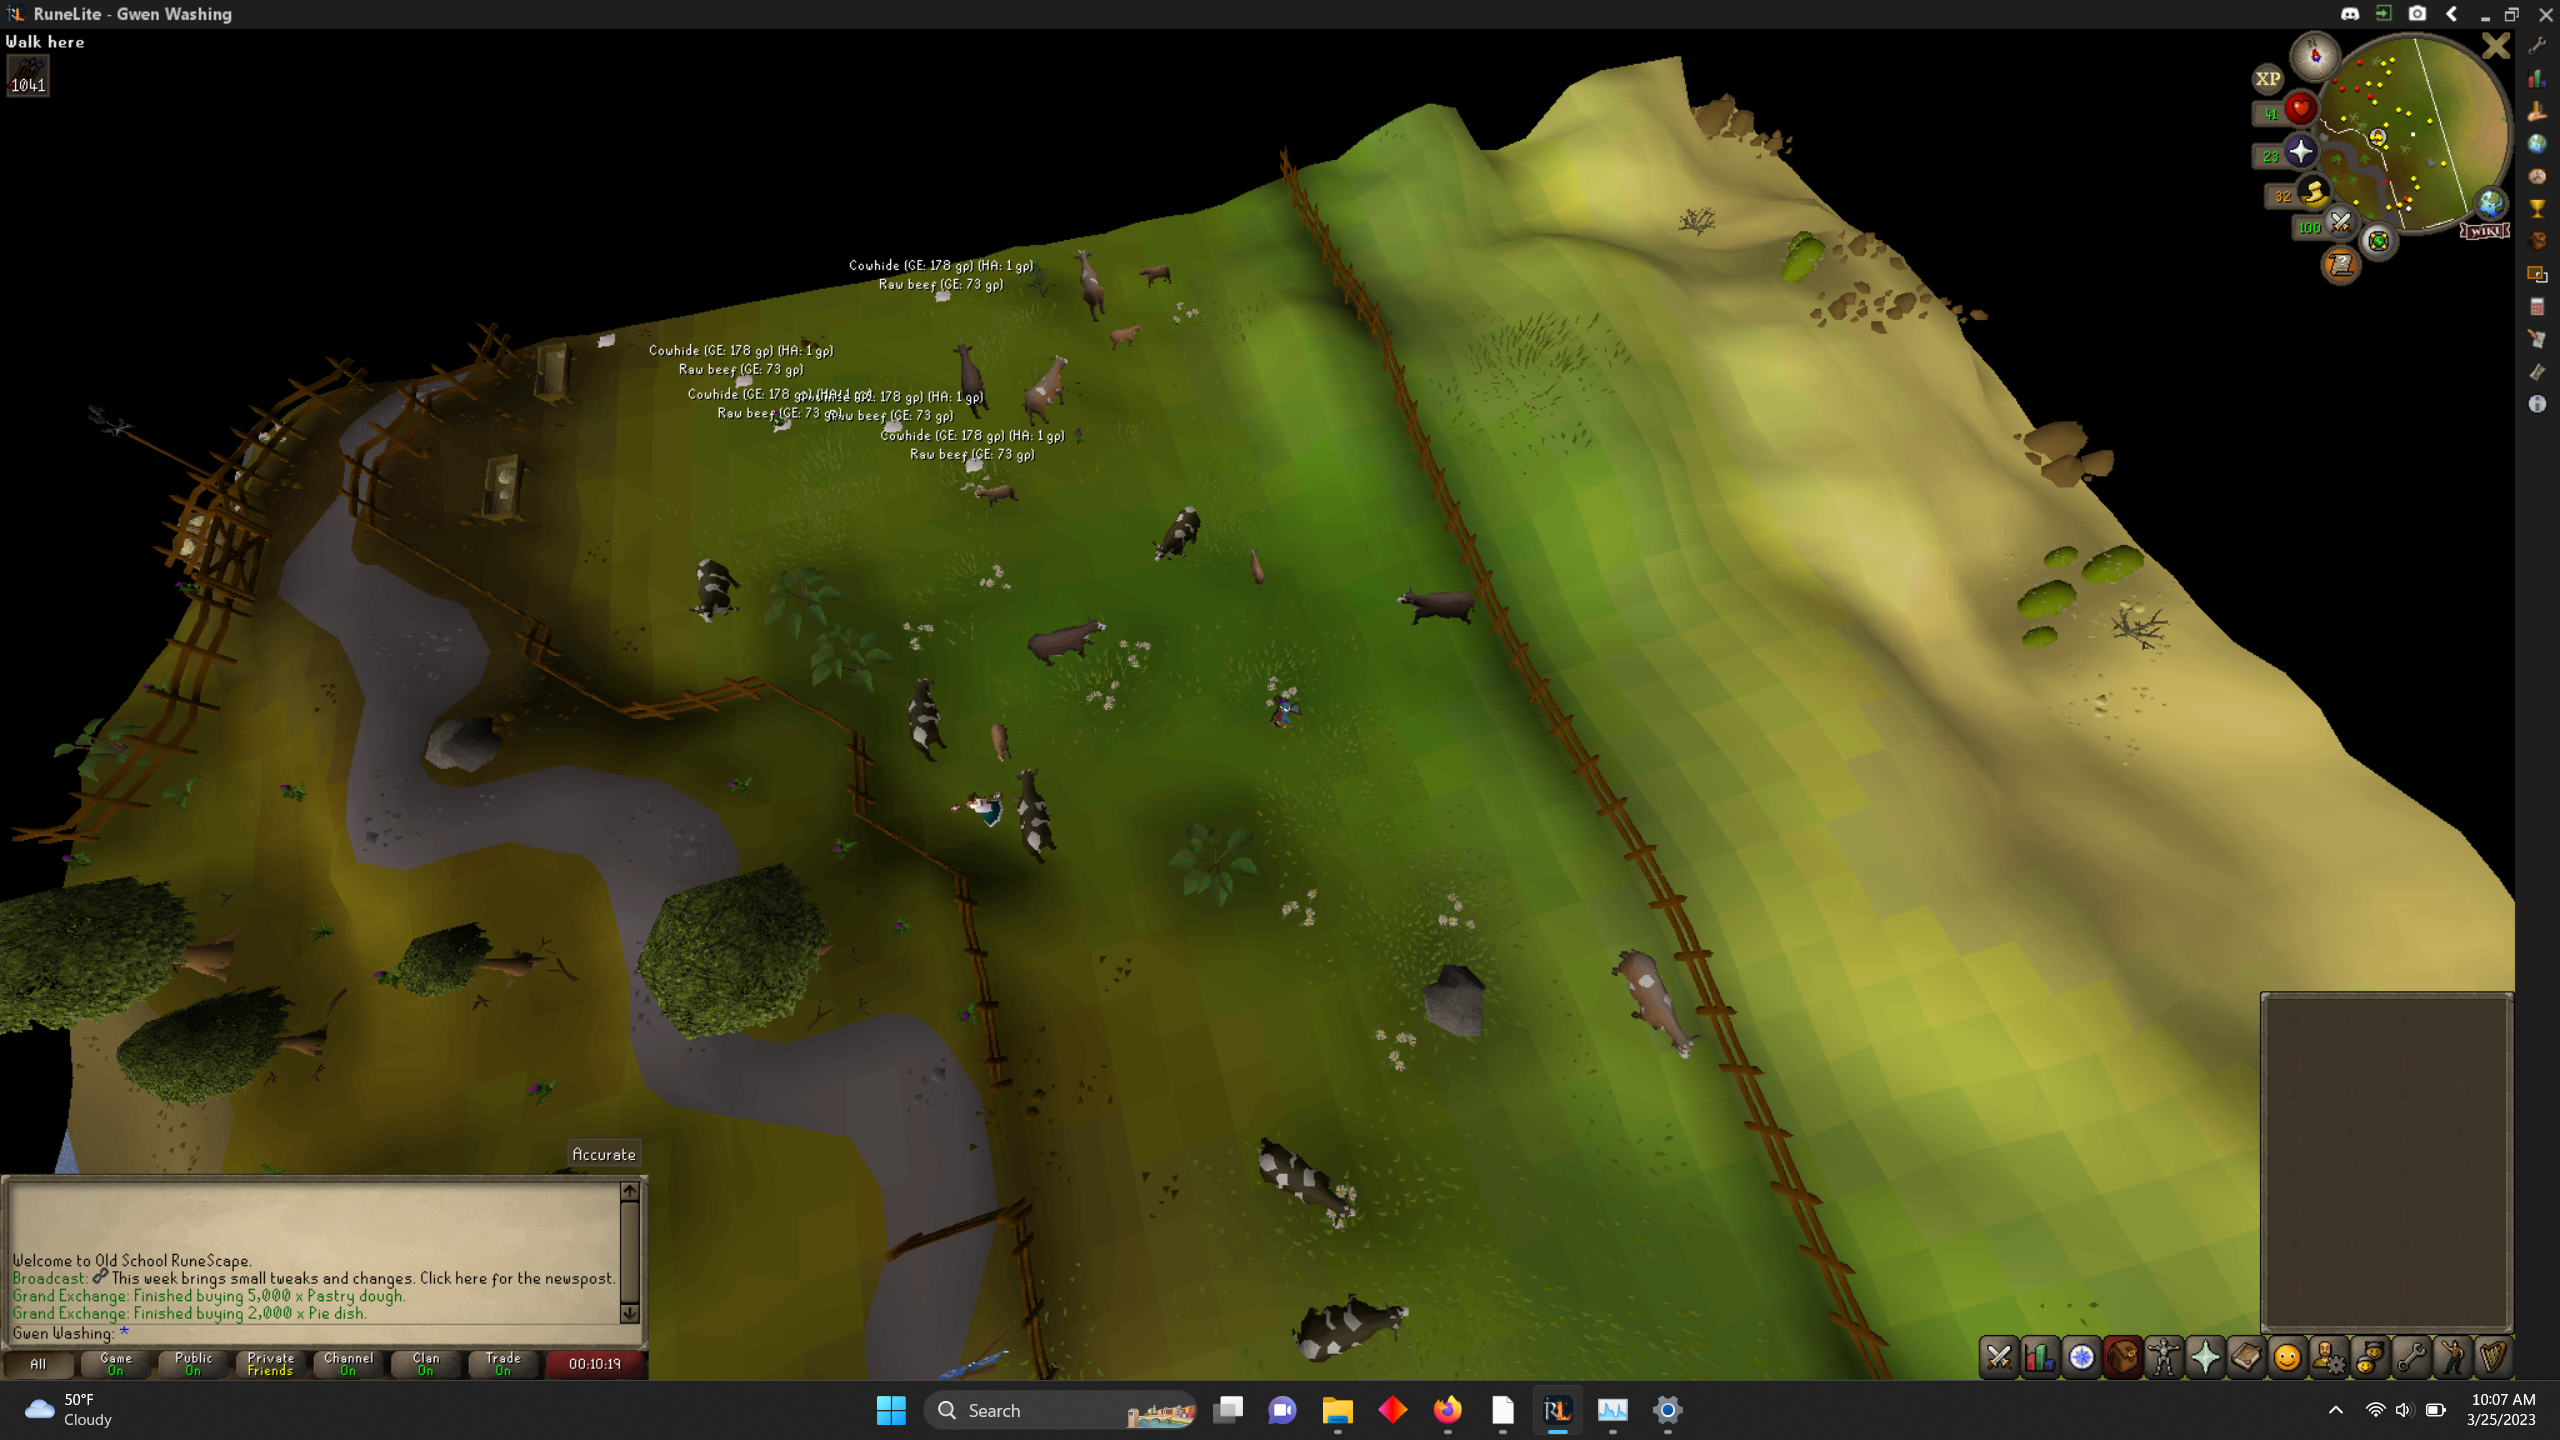cow: (1609, 939, 1705, 1067), (1247, 1127, 1356, 1233), (1287, 1291, 1417, 1366), (1020, 612, 1113, 673), (1007, 761, 1062, 863), (1018, 345, 1080, 431), (897, 673, 951, 760), (1393, 584, 1482, 635), (1146, 501, 1206, 566), (689, 550, 737, 629), (951, 338, 993, 418), (1071, 248, 1115, 324), (1131, 258, 1178, 292), (971, 482, 1025, 510), (986, 717, 1015, 772), (1106, 318, 1141, 350), (1247, 543, 1268, 589), (795, 329, 821, 357)
